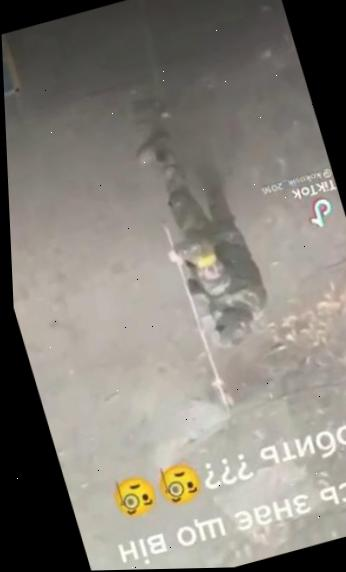person: (128, 113, 282, 357)
